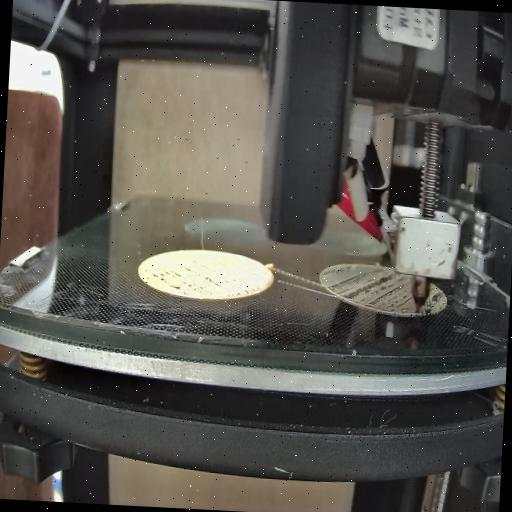under_extrusion: (324, 268, 406, 310), (142, 266, 226, 302), (422, 283, 456, 317), (232, 272, 266, 300)
